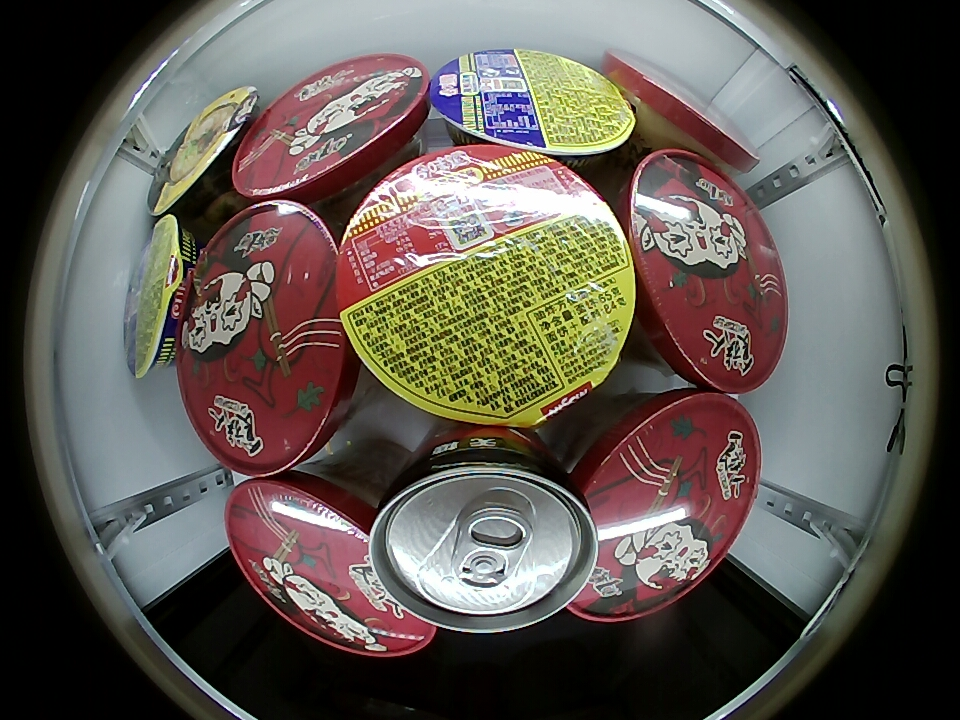heweidao: (429, 48, 636, 159), (121, 213, 199, 380)
heweidao3: (336, 143, 638, 428)
lingdukele: (371, 429, 595, 633)
suanlafen: (178, 200, 356, 477), (567, 390, 761, 624), (623, 149, 788, 394), (224, 473, 435, 657), (232, 54, 431, 205), (612, 51, 761, 171)
tangdaren2: (145, 85, 261, 219)
